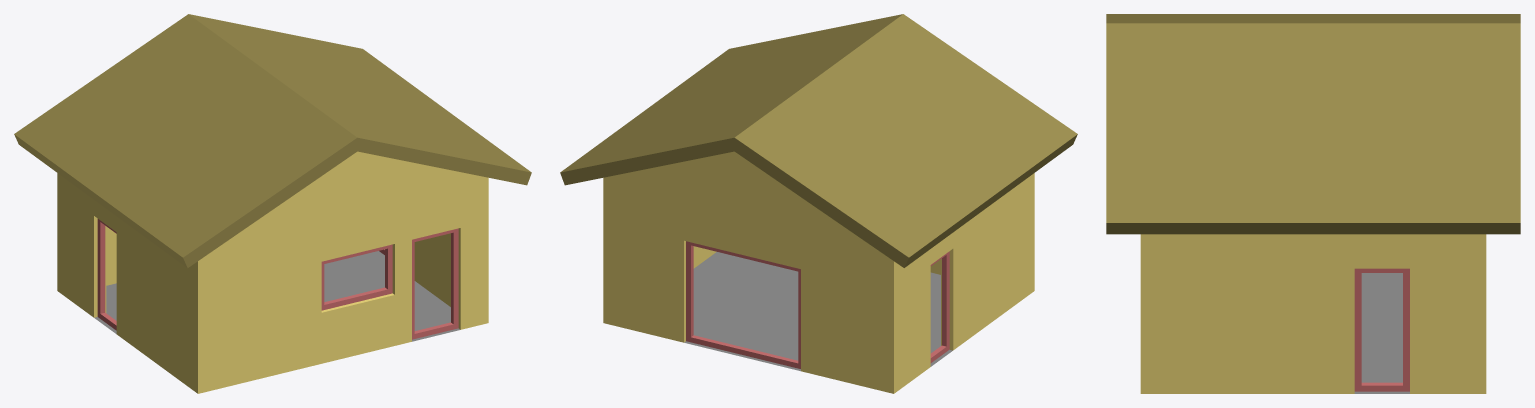
File: result.glb
3 views of the same model, side by side, from view 1: azimuth 30°, elevation 25°; view 2: azimuth 150°, elevation 25°; view 3: azimuth 270°, elevation 25° (orthographic). The views are drawn at different scales.
Parts seen in each view (by area): view 1: 677a2cd4-fc8b-4223-b527-bba058e9ccaa__undefined (×2), 6f7a82e0-df26-48c6-91a8-0114b0fbf47c__undefined, ea67b7ed-901f-44f2-bbaa-b11d9c499c2d__Plane_6, e2988ff9-da4f-446d-a424-c24dd8c38f77__Box, 3ec3a304-dbb8-4244-8a48-0664cd1f9aa4__Box_3, 0decfd21-cbbd-40c6-a217-f4ef6722ca45__Box_12; view 2: 677a2cd4-fc8b-4223-b527-bba058e9ccaa__undefined (×2), 6f7a82e0-df26-48c6-91a8-0114b0fbf47c__undefined, ea67b7ed-901f-44f2-bbaa-b11d9c499c2d__Plane_6, 5072d907-00aa-4635-8103-89c47ffdc817__Box_9, 0decfd21-cbbd-40c6-a217-f4ef6722ca45__Box_12; view 3: 677a2cd4-fc8b-4223-b527-bba058e9ccaa__undefined (×2), 6f7a82e0-df26-48c6-91a8-0114b0fbf47c__undefined, ea67b7ed-901f-44f2-bbaa-b11d9c499c2d__Plane_6, 03e532cb-b9b9-4cc5-b654-7c1486f9f6e7__Box_15.
Part boxes in pixels (x1,y1,x2,y2): 677a2cd4-fc8b-4223-b527-bba058e9ccaa__undefined (×2): (14,14,531,267); 6f7a82e0-df26-48c6-91a8-0114b0fbf47c__undefined: (57,151,488,393); ea67b7ed-901f-44f2-bbaa-b11d9c499c2d__Plane_6: (94,251,460,341); e2988ff9-da4f-446d-a424-c24dd8c38f77__Box: (412,228,458,339); 3ec3a304-dbb8-4244-8a48-0664cd1f9aa4__Box_3: (321,244,392,310); 0decfd21-cbbd-40c6-a217-f4ef6722ca45__Box_12: (97,219,116,330); 677a2cd4-fc8b-4223-b527-bba058e9ccaa__undefined (×2): (560,14,1077,267); 6f7a82e0-df26-48c6-91a8-0114b0fbf47c__undefined: (603,151,1034,393); ea67b7ed-901f-44f2-bbaa-b11d9c499c2d__Plane_6: (684,252,952,371); 5072d907-00aa-4635-8103-89c47ffdc817__Box_9: (686,241,800,368); 0decfd21-cbbd-40c6-a217-f4ef6722ca45__Box_12: (930,251,949,362); 677a2cd4-fc8b-4223-b527-bba058e9ccaa__undefined (×2): (1106,14,1520,234); 6f7a82e0-df26-48c6-91a8-0114b0fbf47c__undefined: (1140,234,1486,393); ea67b7ed-901f-44f2-bbaa-b11d9c499c2d__Plane_6: (1354,273,1409,393); 03e532cb-b9b9-4cc5-b654-7c1486f9f6e7__Box_15: (1354,268,1409,391).
Bounding box in the file's own units: 716 × 453 × 600.
